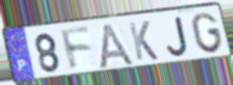8: (34, 32, 62, 75)
A: (97, 21, 136, 70)
F: (58, 26, 95, 73)
G: (190, 11, 225, 55)
J: (165, 15, 190, 58)
K: (127, 19, 160, 62)
